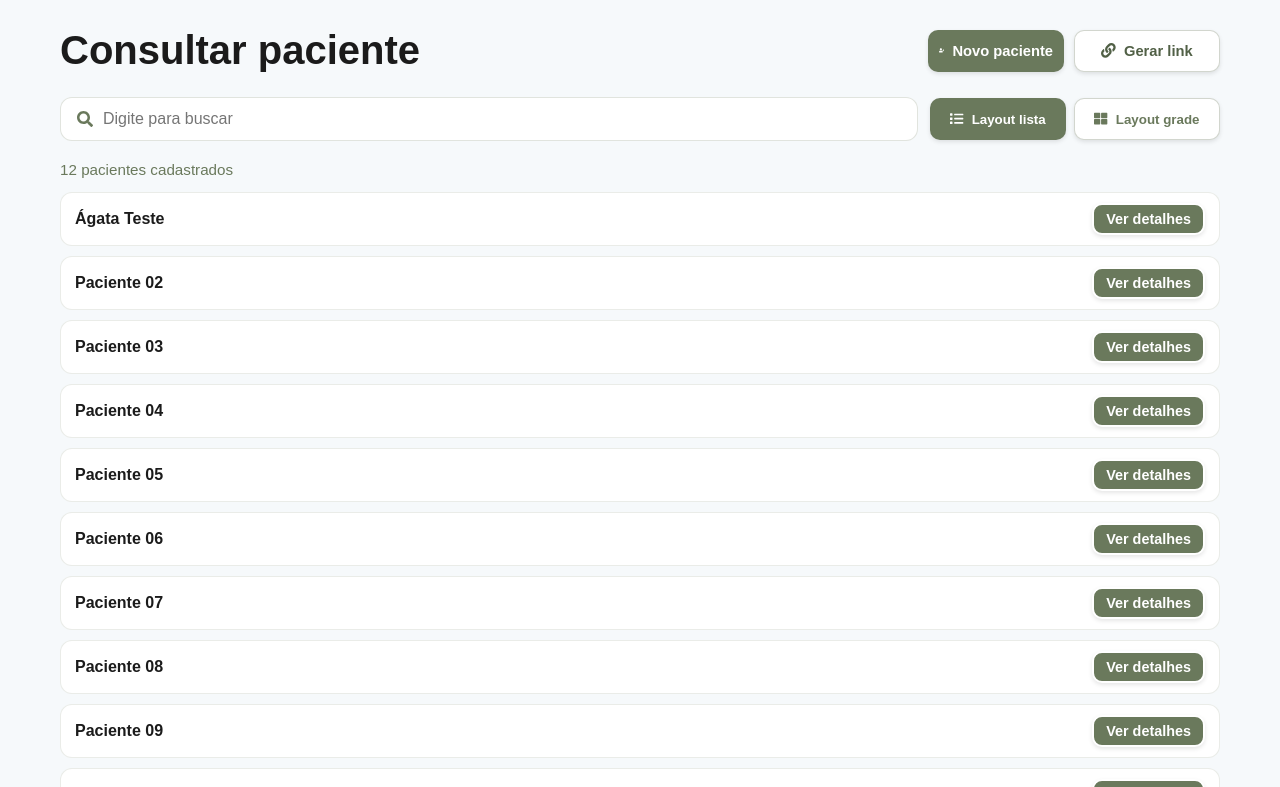
Test: PatientsSearch › mantém busca e paginação locais sem novas consultas ao Backend
Check: the text "12 pacientes cadastrados" is shown, box [60, 161, 233, 178]
Type "Paciente" into the field with placeholder "Digite para buscar".
click(502, 119); type("Paciente")  # box [103, 110, 901, 128]
(page scrolled)
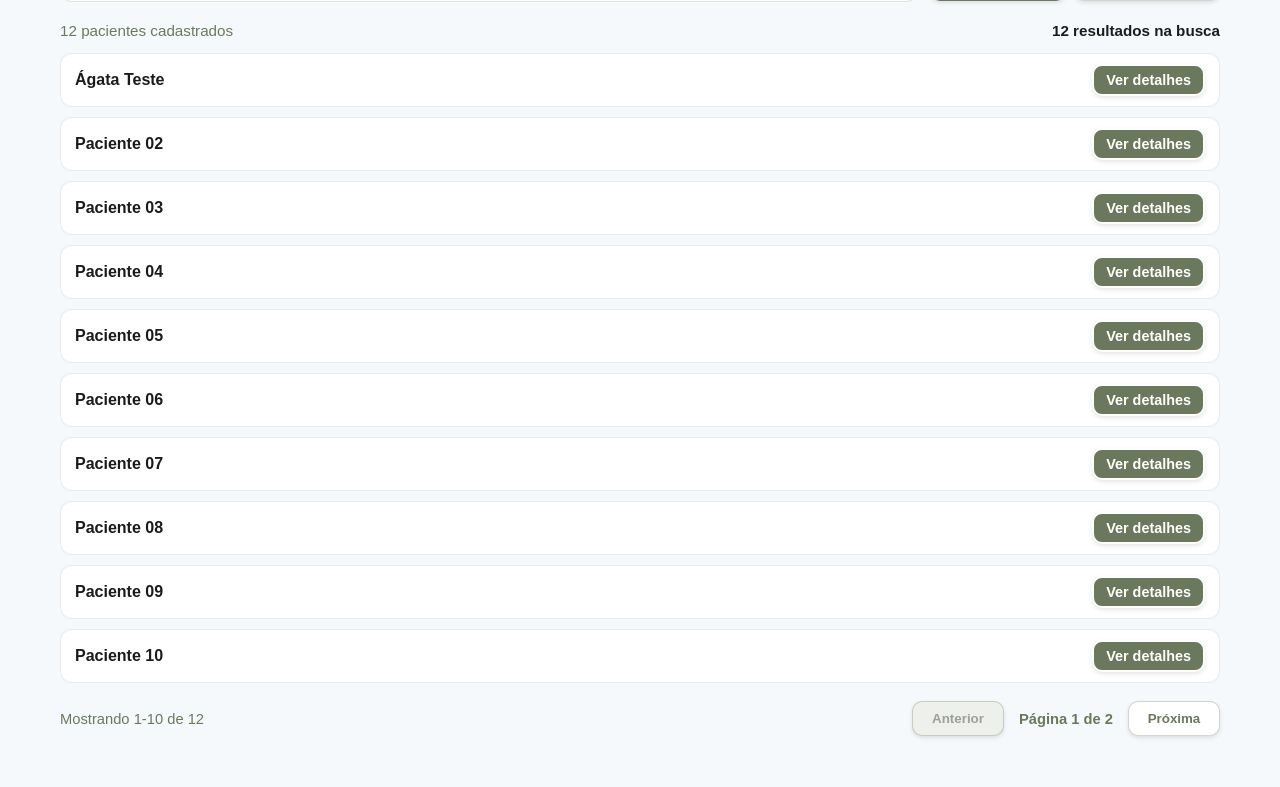
Check: the text "Página 1 de 2" is shown, box [1012, 710, 1120, 726]
Check: the text "12 resultados na busca" is shown, box [1052, 22, 1220, 39]
